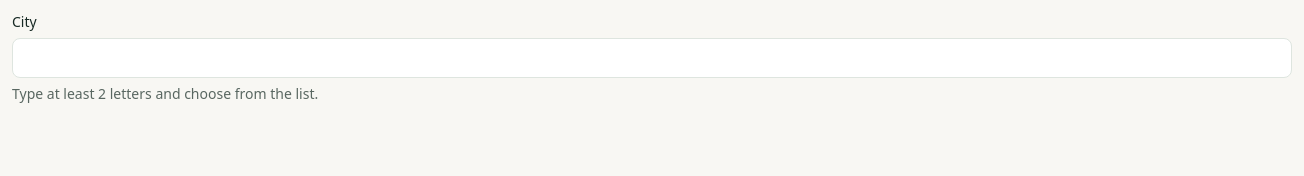
Test: the place picker › says so when the place search is unavailable
Type "pune" into the dropdown labelled "City". click: (652, 58)
box: [12,38,1292,78]
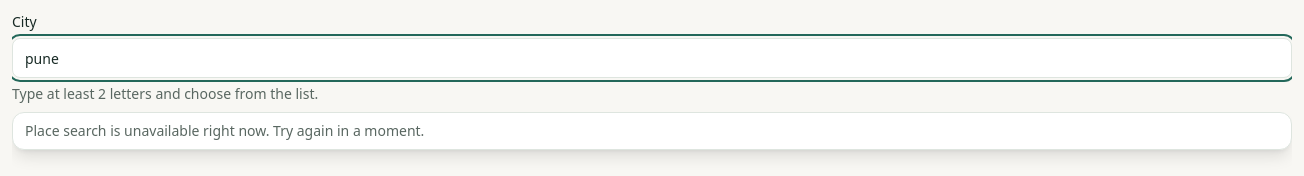
Check: the text "Place search is unavailable right now. Try again in a moment." is shown, box [25,121,424,140]
